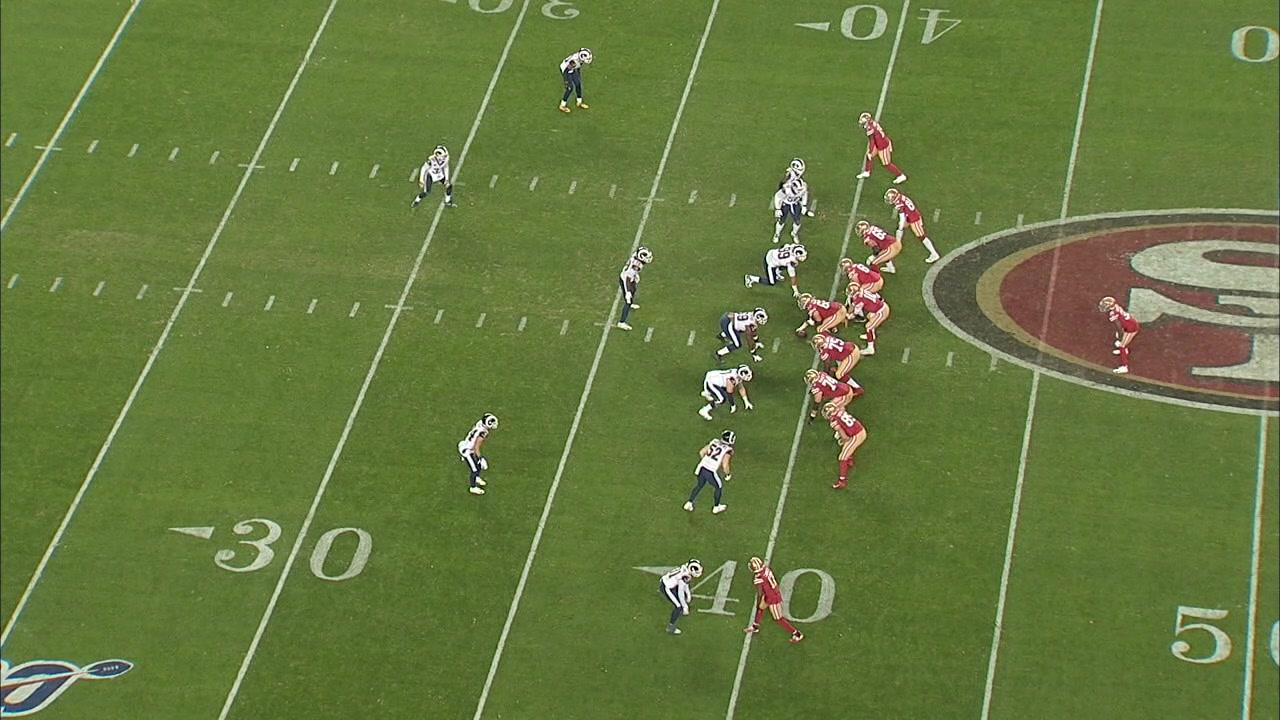defense: (682, 429, 738, 516), (658, 558, 705, 638), (453, 413, 498, 496), (617, 245, 657, 329), (710, 307, 770, 362), (699, 364, 757, 419), (744, 244, 807, 291), (411, 141, 454, 207), (772, 176, 811, 245), (559, 45, 597, 114), (781, 155, 813, 218)
oline: (809, 332, 865, 399), (805, 369, 854, 428), (794, 288, 847, 338), (855, 219, 903, 268), (840, 257, 884, 295)
qb: (846, 282, 890, 360)
skill: (749, 552, 805, 648), (882, 185, 942, 268), (856, 110, 909, 185), (825, 402, 865, 493), (1098, 295, 1139, 376)
